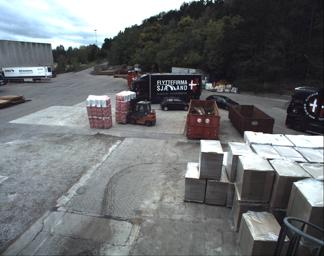rockwool_batts: (86, 94, 111, 129), (86, 95, 108, 129), (115, 87, 134, 120)
